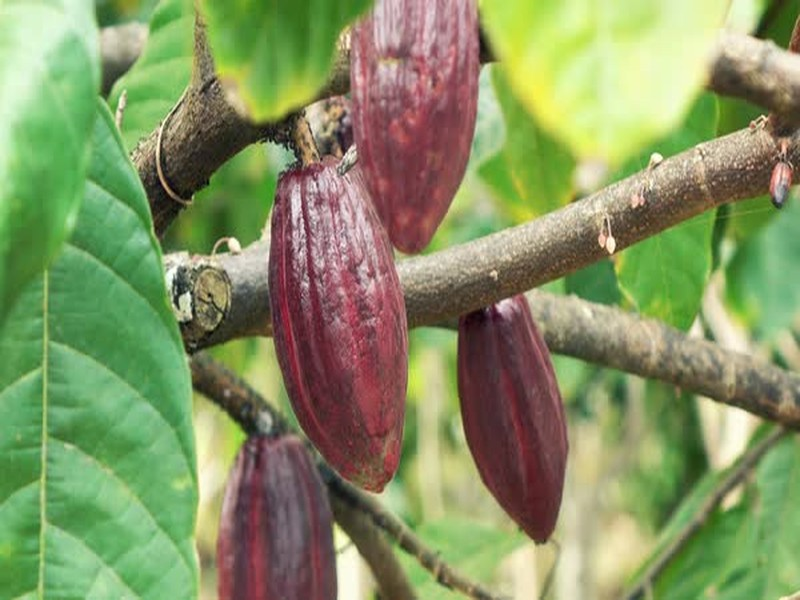Cacaopod: (270, 153, 413, 493)
